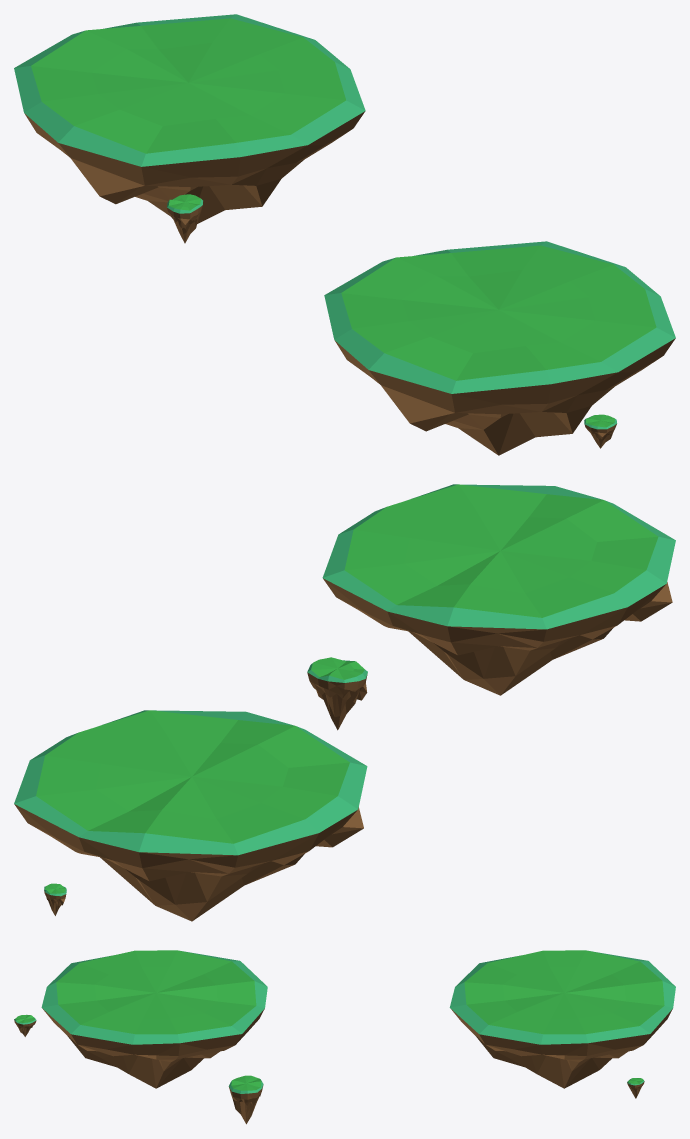
File: floating_island.fbx
3 renders of one model, top to bottom at view 1: azimuth 30°, elevation 25°; view 2: azimuth 150°, elevation 25°; view 3: azimuth 270°, elevation 25°, orthographic. The views are drawn at different scales.
Parts seen in each view (by area): view 1: floating_island; view 2: floating_island; view 3: floating_island.
Boxes of the visible parts, bbox=[...] form: floating_island: bbox=[14, 14, 675, 455]; floating_island: bbox=[14, 484, 675, 921]; floating_island: bbox=[14, 950, 675, 1124].
Size of the model in its own units: 98655 by 50841 by 292704.
